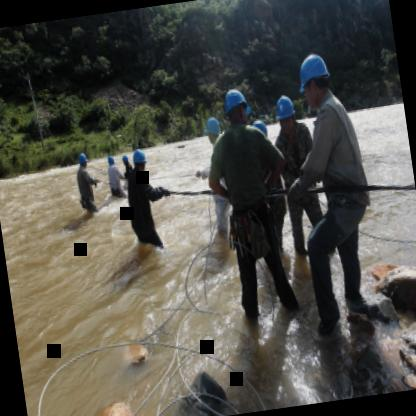helmet: (292, 46, 336, 112), (220, 83, 251, 126), (272, 92, 300, 134), (202, 112, 226, 149), (129, 146, 149, 176), (76, 149, 92, 170), (106, 150, 116, 171)
